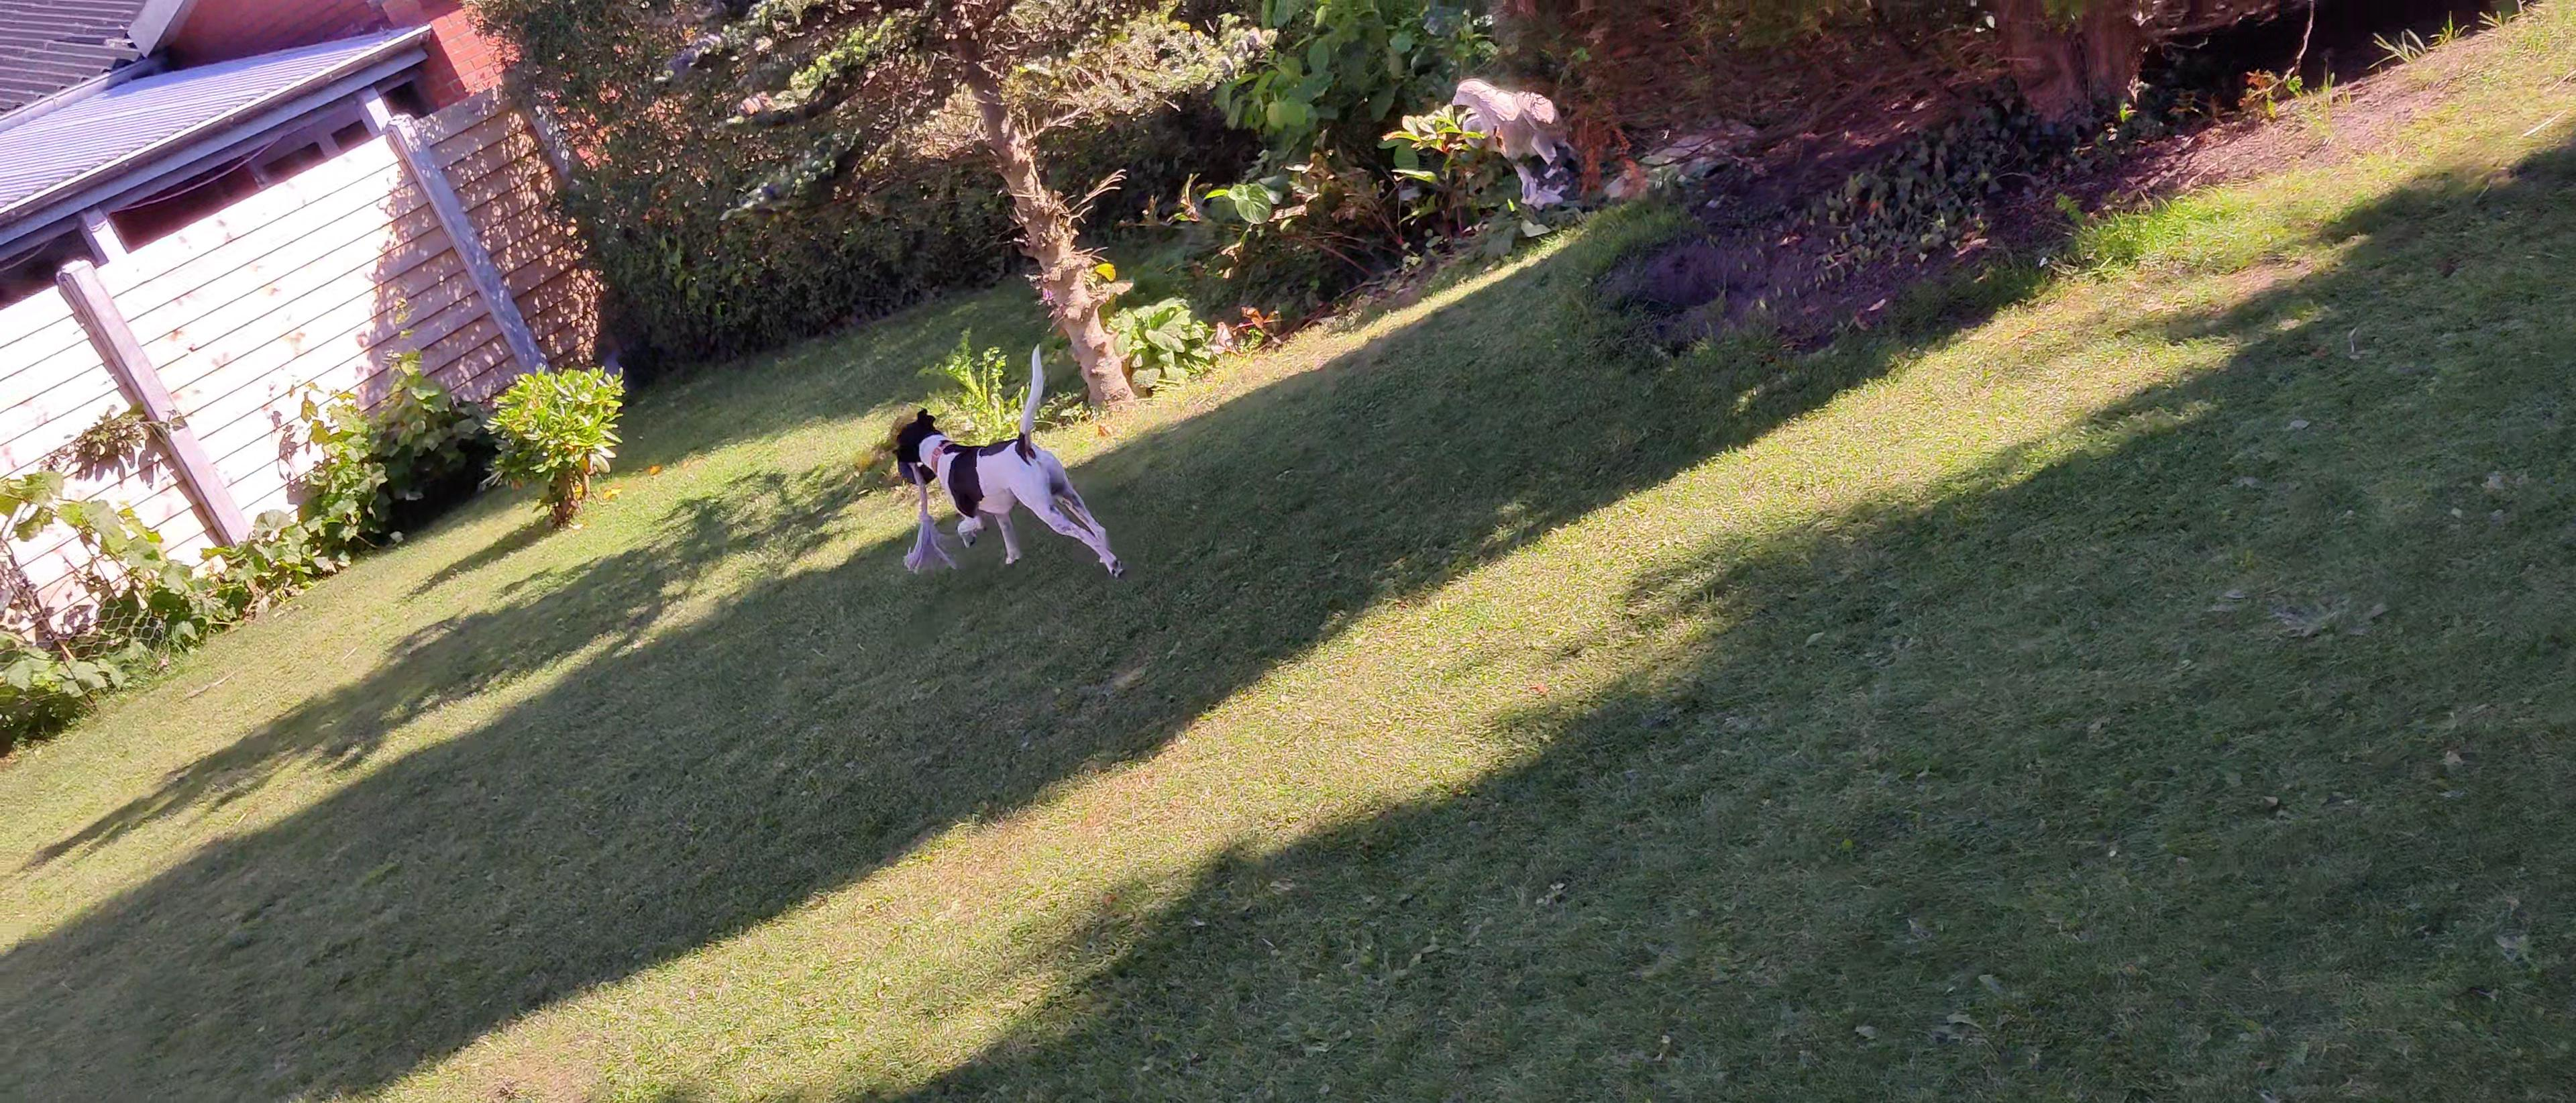Dog: (892, 342, 1127, 579)
